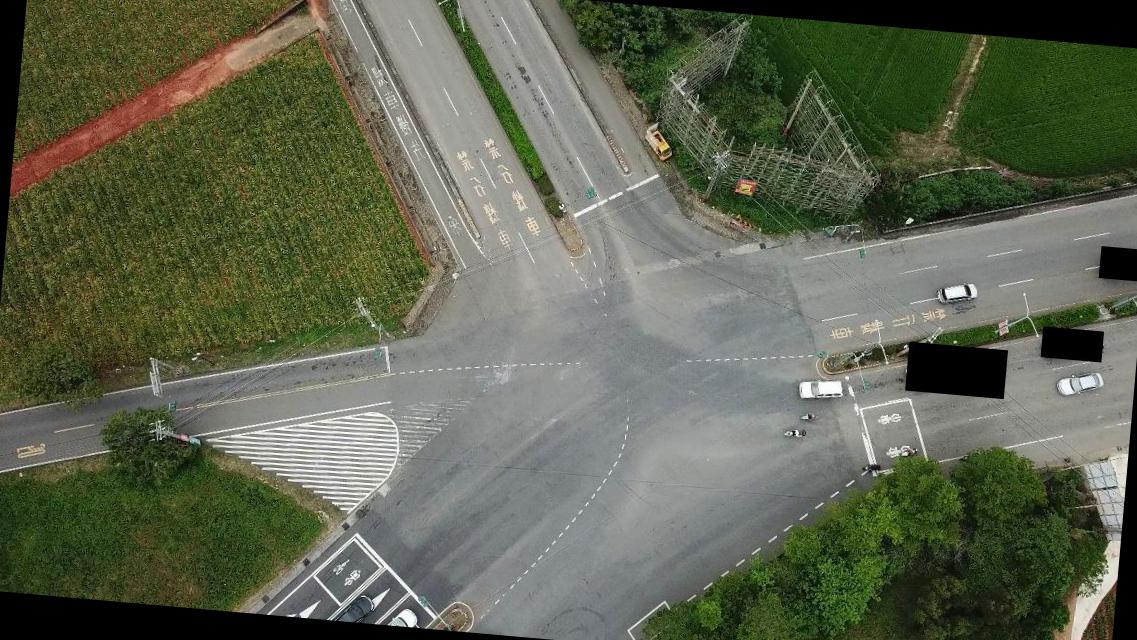vehicle: (795, 377, 845, 404), (335, 591, 377, 623), (1056, 371, 1104, 398), (936, 279, 977, 308), (647, 128, 675, 162), (386, 604, 420, 628)
